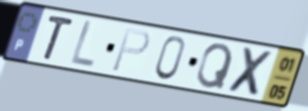0: (154, 35, 188, 82)
L: (67, 18, 97, 71)
P: (109, 26, 153, 74)
Q: (194, 42, 236, 92)
T: (42, 13, 76, 63)
X: (225, 45, 277, 101)
